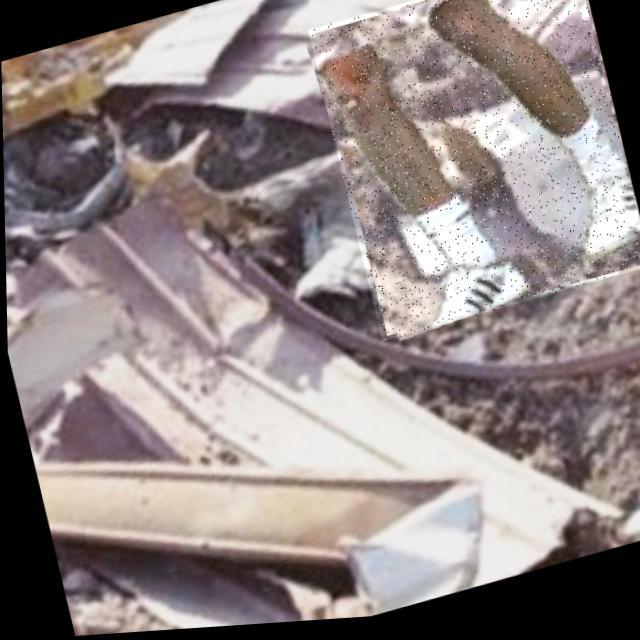Person in Rubble: (306, 0, 640, 350)
